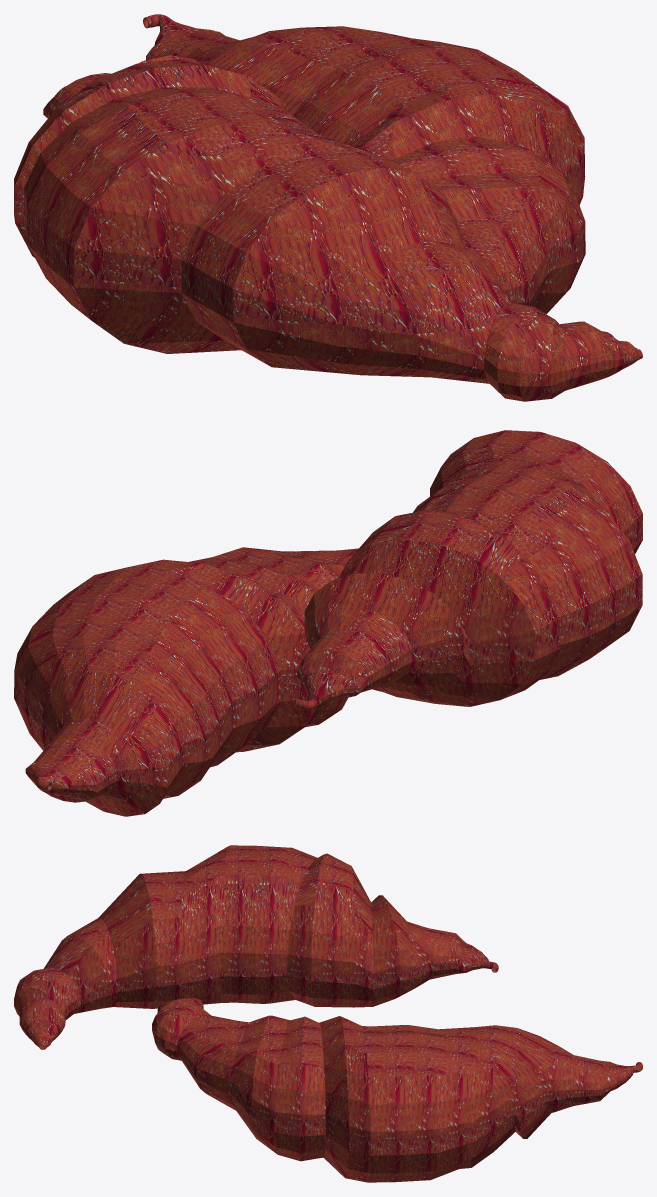
The model's file is cave3.FBX.
3 views of the same model, one above another, from view 1: azimuth 30°, elevation 25°; view 2: azimuth 150°, elevation 25°; view 3: azimuth 270°, elevation 25° (orthographic). The views are drawn at different scales.
Parts seen in each view (by area): view 1: Cylinder002; view 2: Cylinder002; view 3: Cylinder002.
Boxes of the visible parts, box(x1,y1,x2,y2) form: Cylinder002: box(14, 14, 642, 401); Cylinder002: box(14, 430, 642, 816); Cylinder002: box(14, 845, 642, 1182).
Size of the model in its own units: 46232 by 25274 by 66578.
